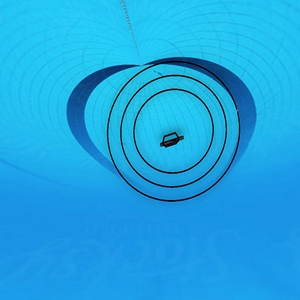circle: (104, 56, 244, 212)
submarine: (159, 129, 184, 155)
